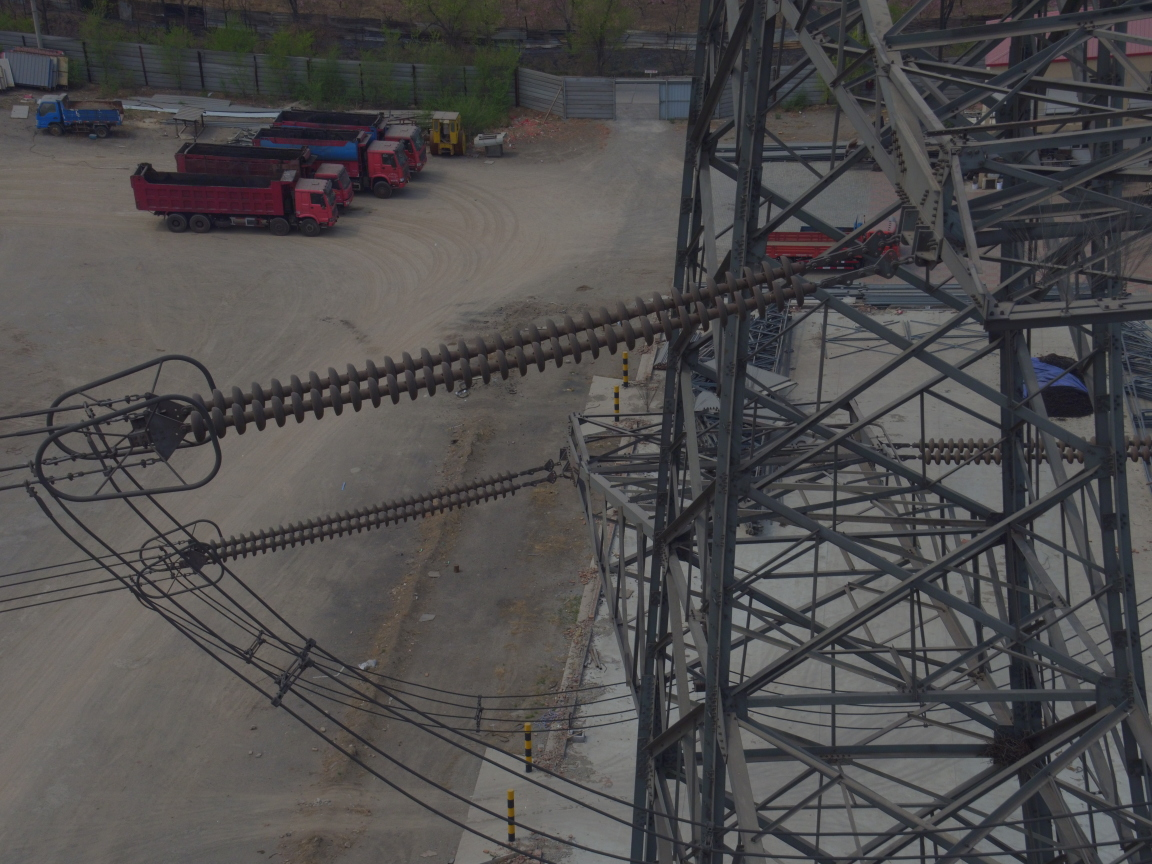insulator: (168, 248, 851, 449), (198, 467, 533, 567)
